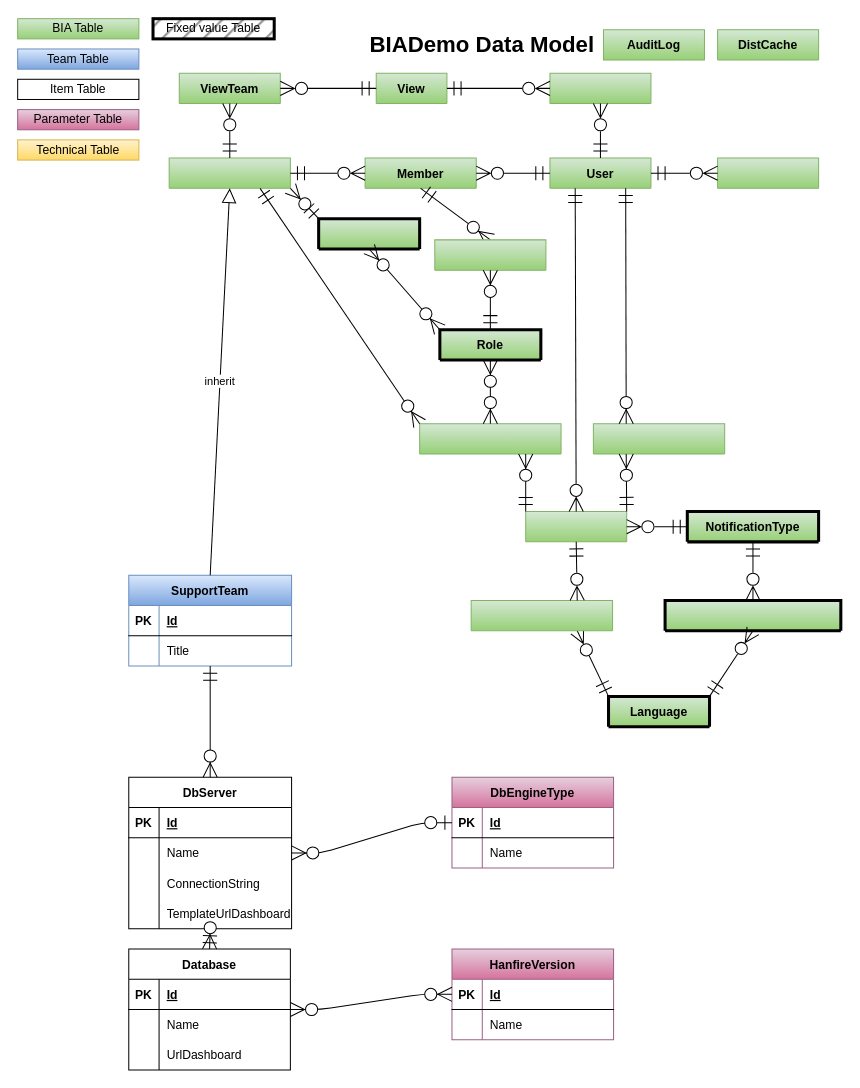
Some shapes in this 860 by 1088 pixel diagram are drawn without their labels. Here are the shapes that lost their labels. From the top down, the centre of each, then its label:
the point at 600,88: ViewUser
the point at 229,172: Team
the point at 768,172: UserAudit
the point at 369,233: TeamTypes
the point at 490,254: MemberRole
the point at 490,438: NotificationTeam
the point at 658,438: NotificationUser
the point at 576,526: Notification
the point at 541,615: NotificationTranslation
the point at 752,615: NotificationTypeTranslations
